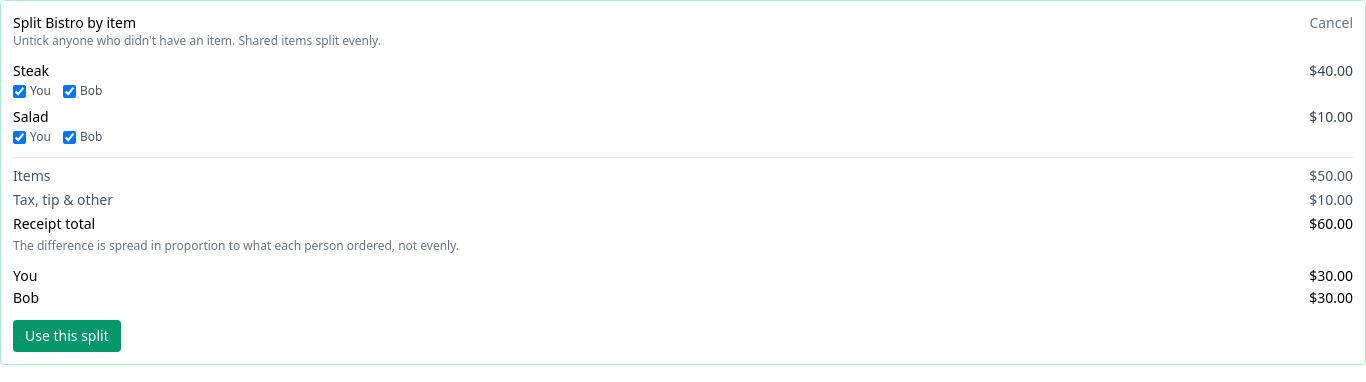
Test: ReceiptItemSplitter › recomputes what each person owes as items are reassigned, tax and tip following the items
Click the checkbox named "Steak - Bob" at (69, 91), box [63,84,76,98]
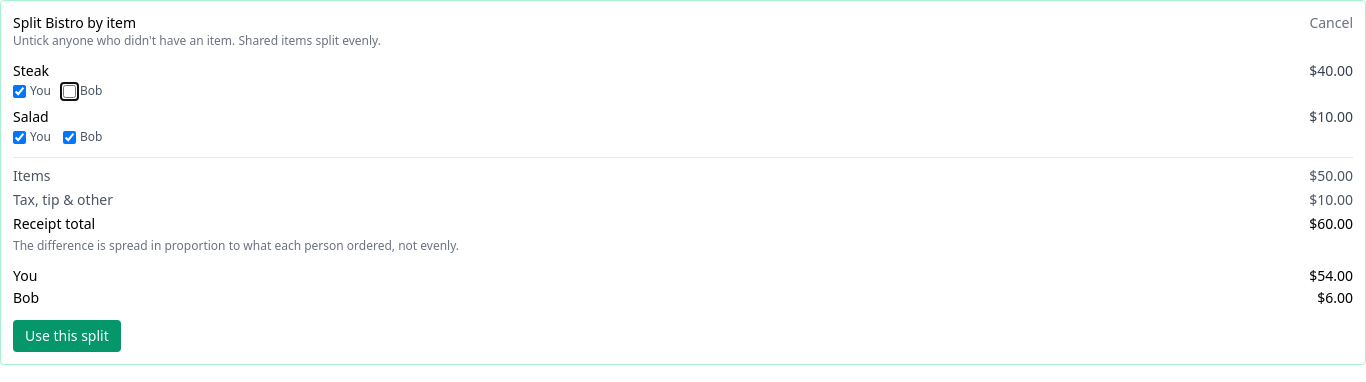
Click the checkbox named "Salad - You" at (20, 137), box [13,130,26,144]
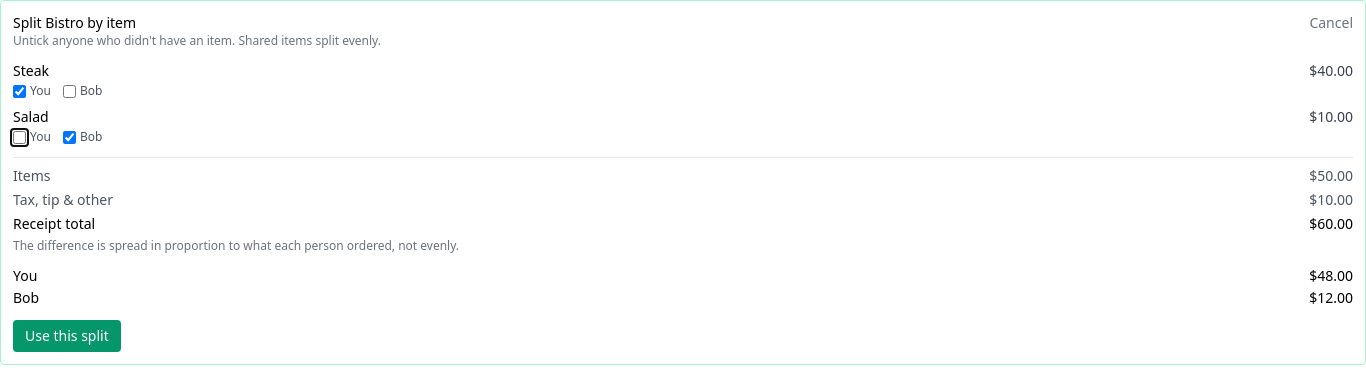
Expected: the text "$48.00" is shown, [1309,266,1353,286]
Expected: the text "$12.00" is shown, [1309,288,1353,308]
